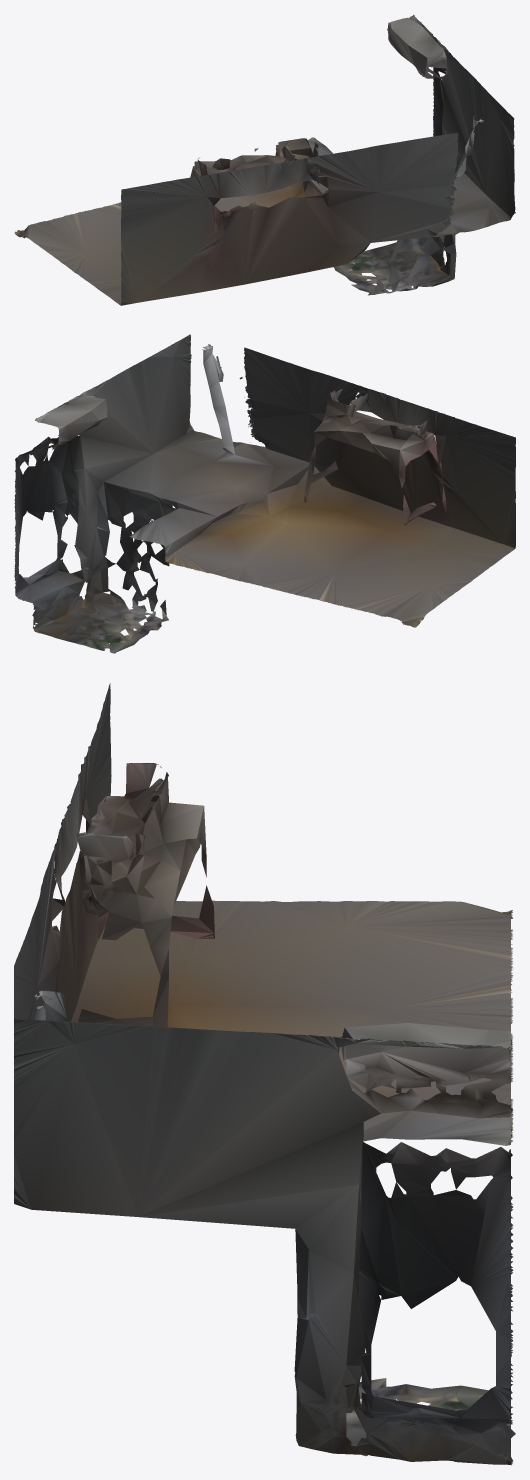
Rendered from coarse.glb.
The picture shows the model from 3 angles, top to bottom: view 1: azimuth 30°, elevation 25°; view 2: azimuth 150°, elevation 25°; view 3: azimuth 270°, elevation 25°; orthographic projection. The views are drawn at different scales.
Size of the model in its own units: 3.25 by 1.66 by 1.78.
